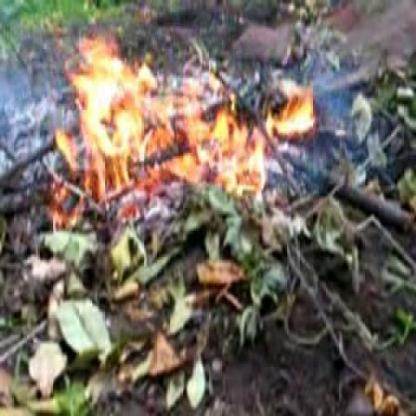fire: (26, 2, 341, 256)
